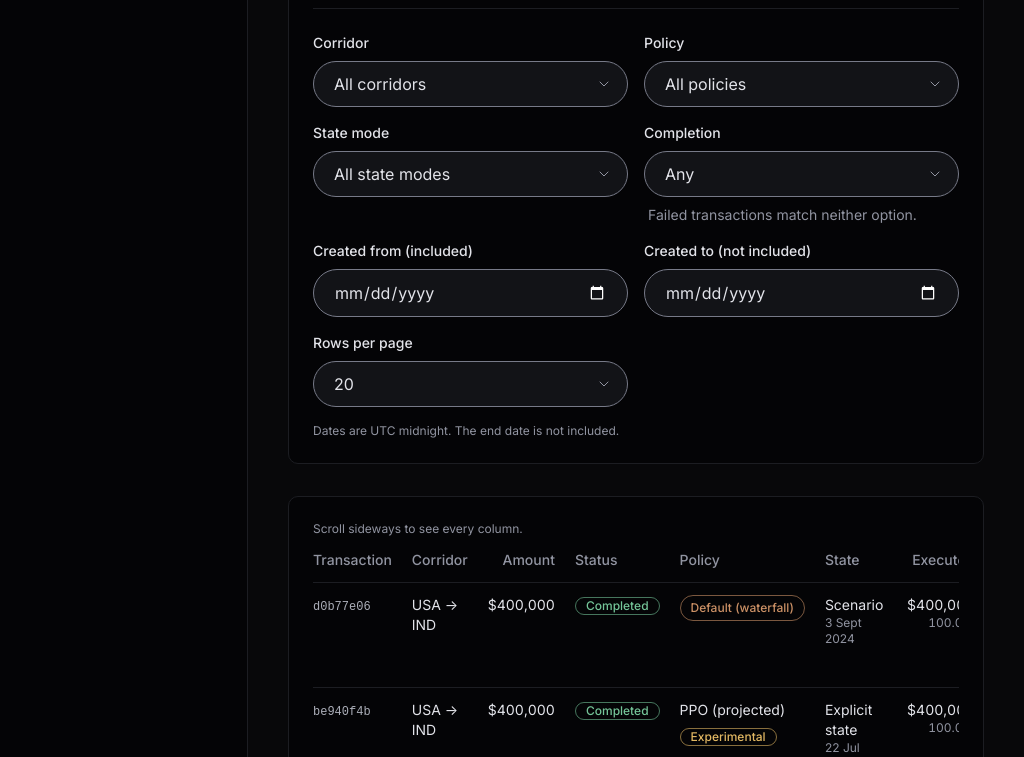
paging and page size › shows all 57 on one page at 100 rows
(page scrolled)
Select "100" in the dropdown labelled "Rows per page" at (470, 384), box [313, 362, 628, 408]
(page scrolled)
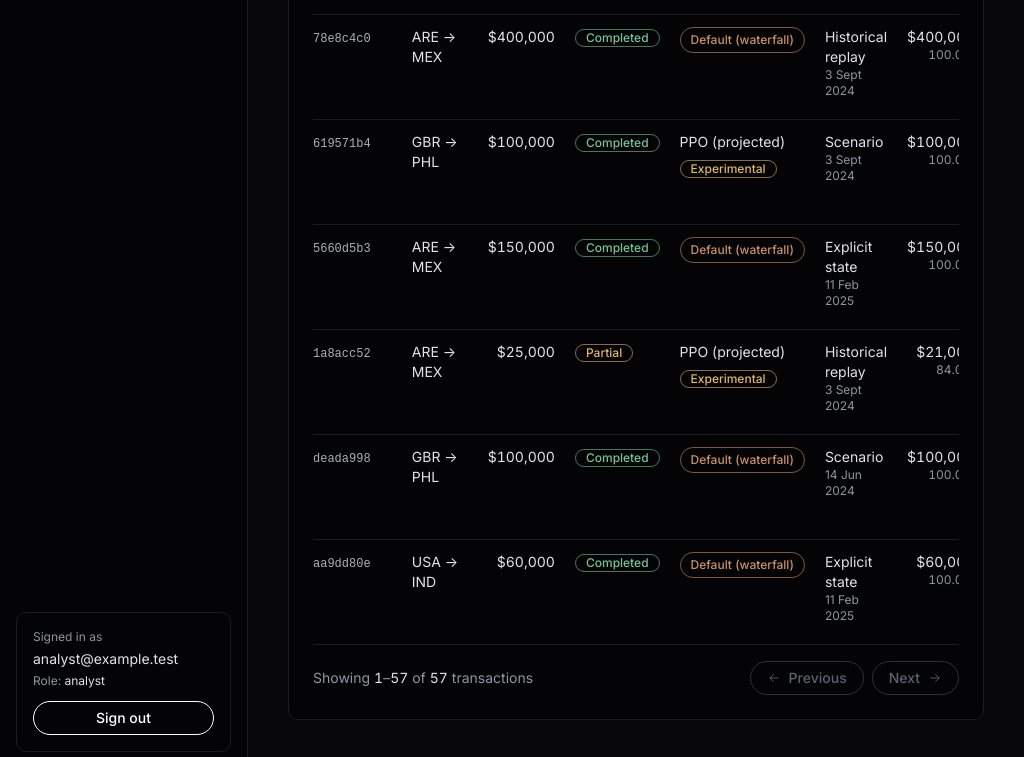
Check: the button "Previous" is disabled, box [750, 662, 864, 696]
Check: the button "Next" is disabled, box [872, 662, 959, 696]
